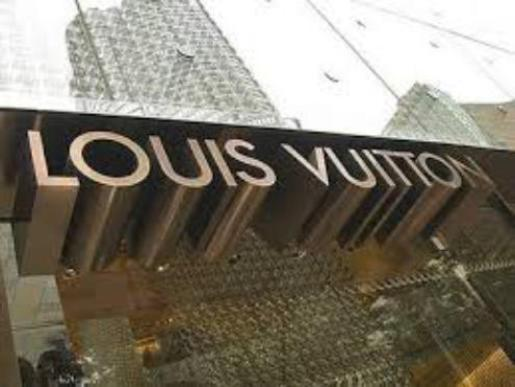LOUIS-VUITTON: (6, 111, 515, 233)
